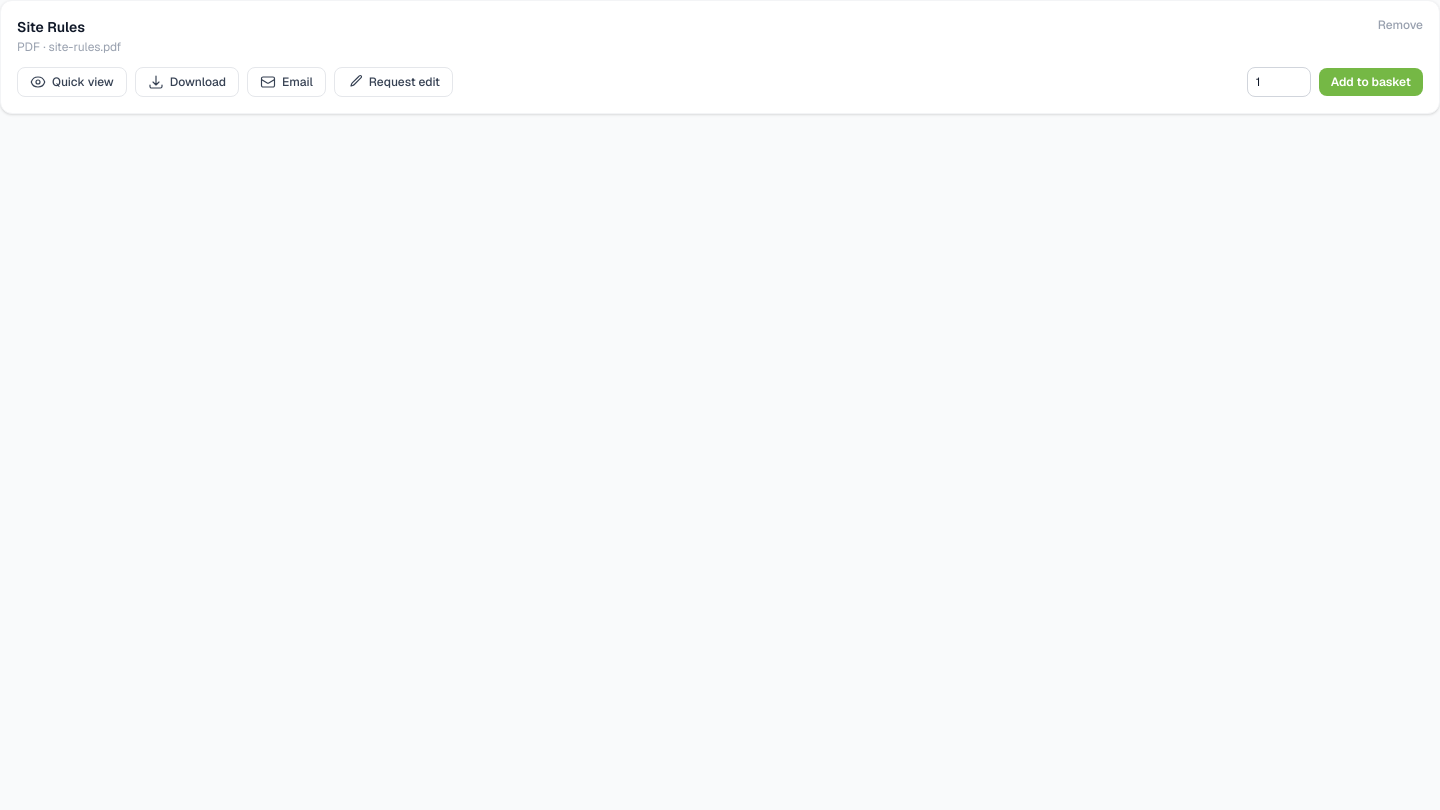
Test: confirming a print order gives unmistakable feedback › shows a success state, empties the basket, and offers a way back
What coordinates should you click on to do the following:
click the button "Add to basket"
I would click on:
 (1371, 82)
Its box is [1319, 68, 1423, 96].
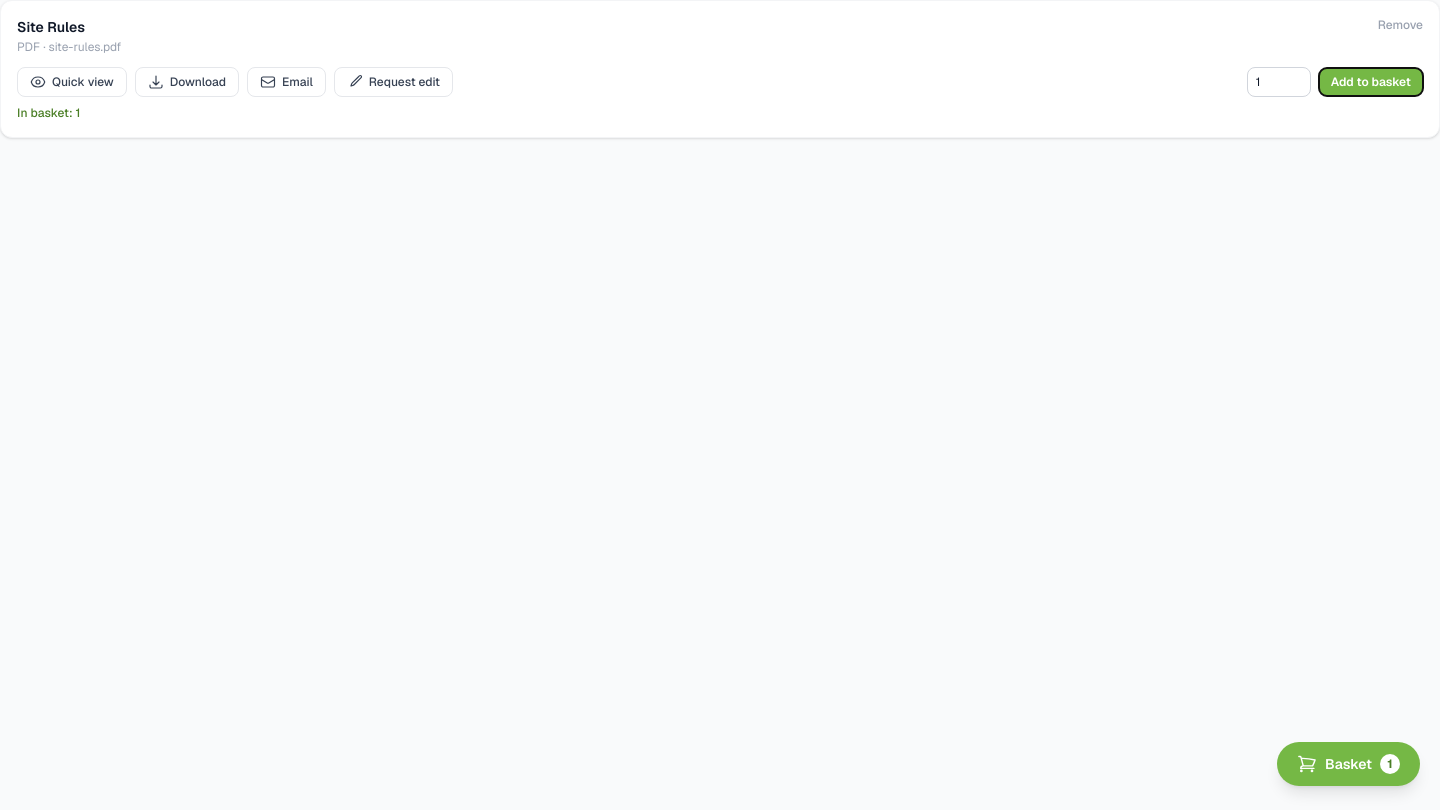
What coordinates should you click on to do the following:
click the button with aria-label "print basket, 1 document"
I would click on:
 (1348, 764)
Its box is [1277, 742, 1420, 786].
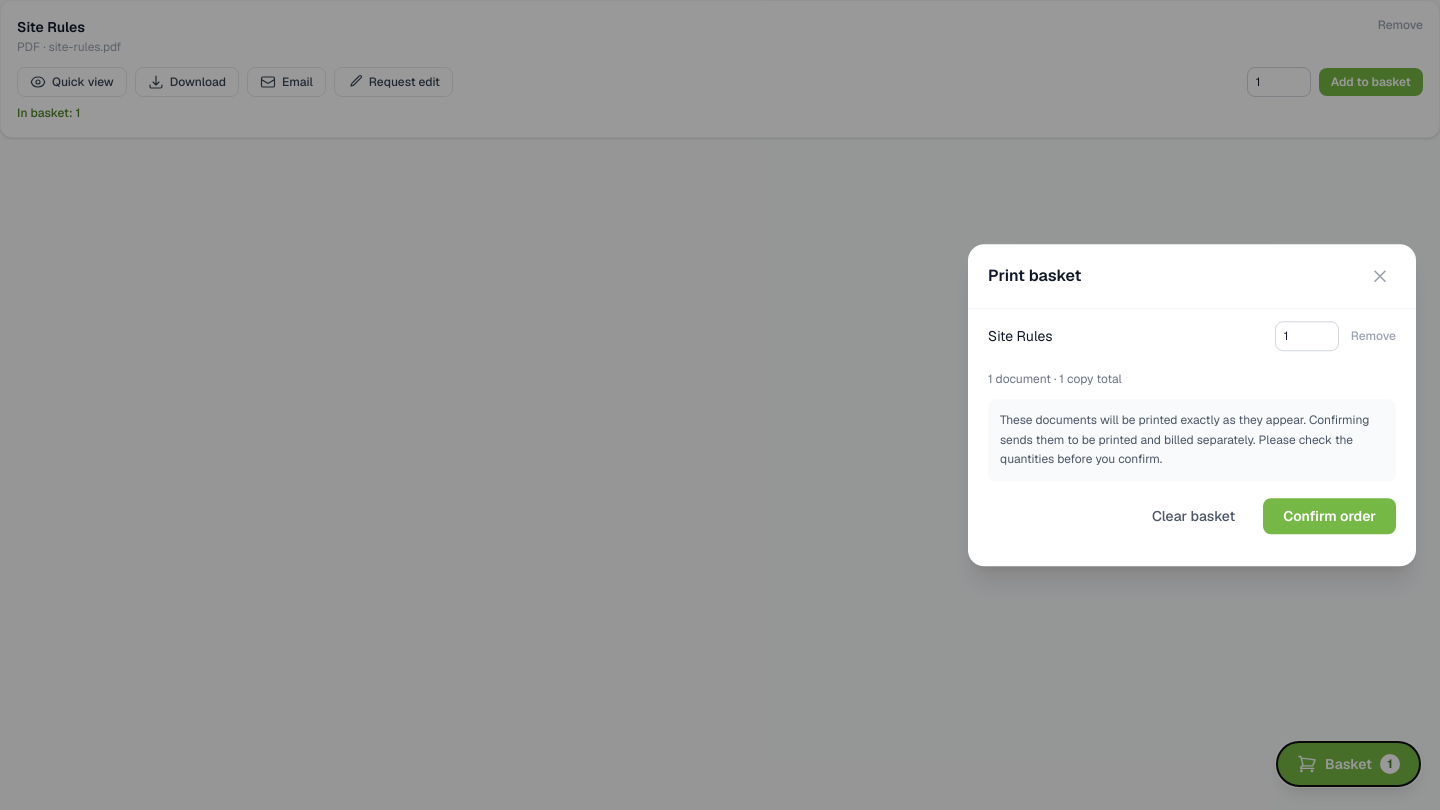
What coordinates should you click on to do the following:
click the button "Confirm order"
I would click on:
 (1330, 516)
Its box is [1263, 498, 1396, 534].
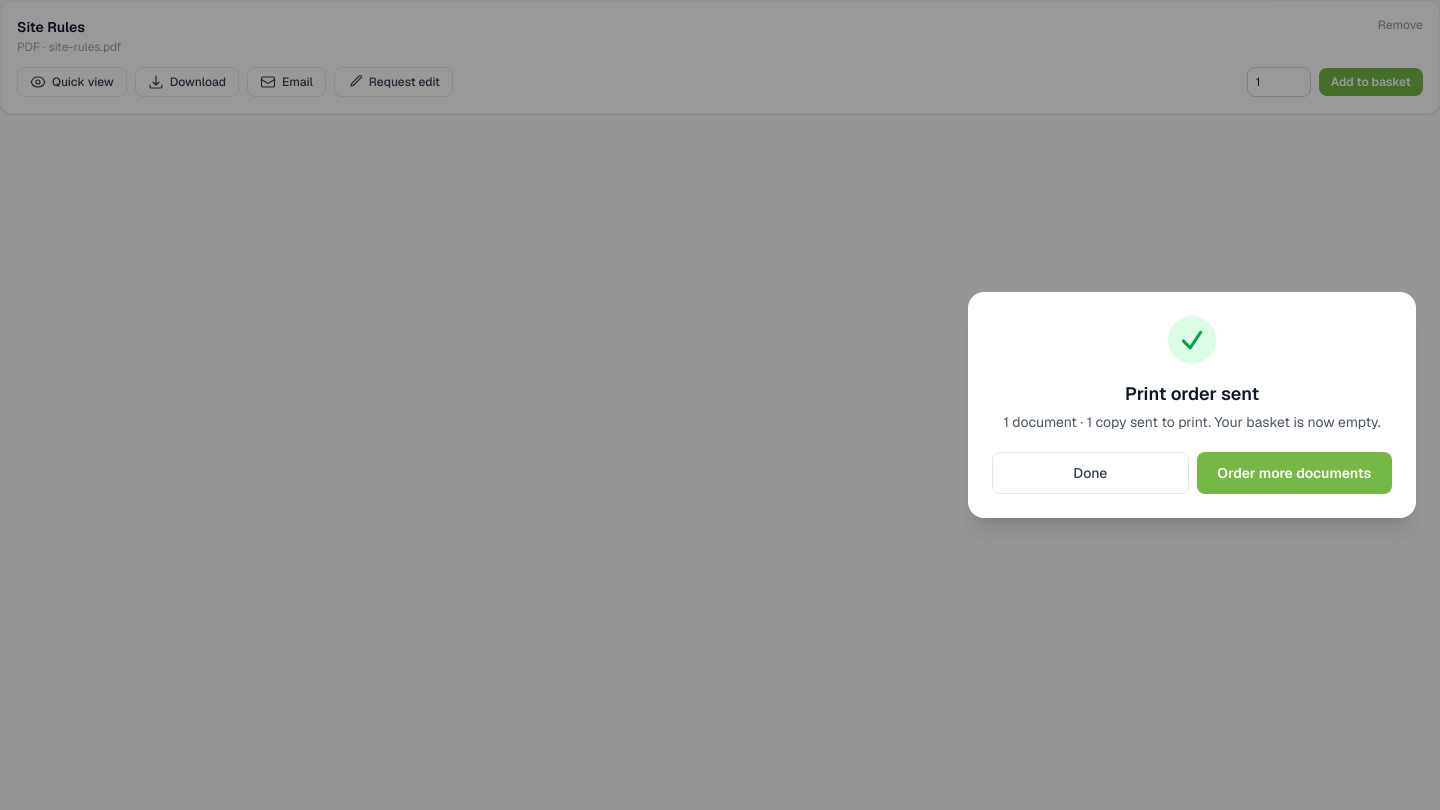
Now the heading "Print order sent" is shown, box [1125, 382, 1259, 405]
Now the dialog "Print order sent" is shown
Now the heading "Print basket" is gone
Note: A route back to the library rather than a dead end.
What coordinates should you click on to do the following:
click the button "Order more documents"
I would click on:
 (1294, 473)
Its box is [1197, 452, 1392, 494].
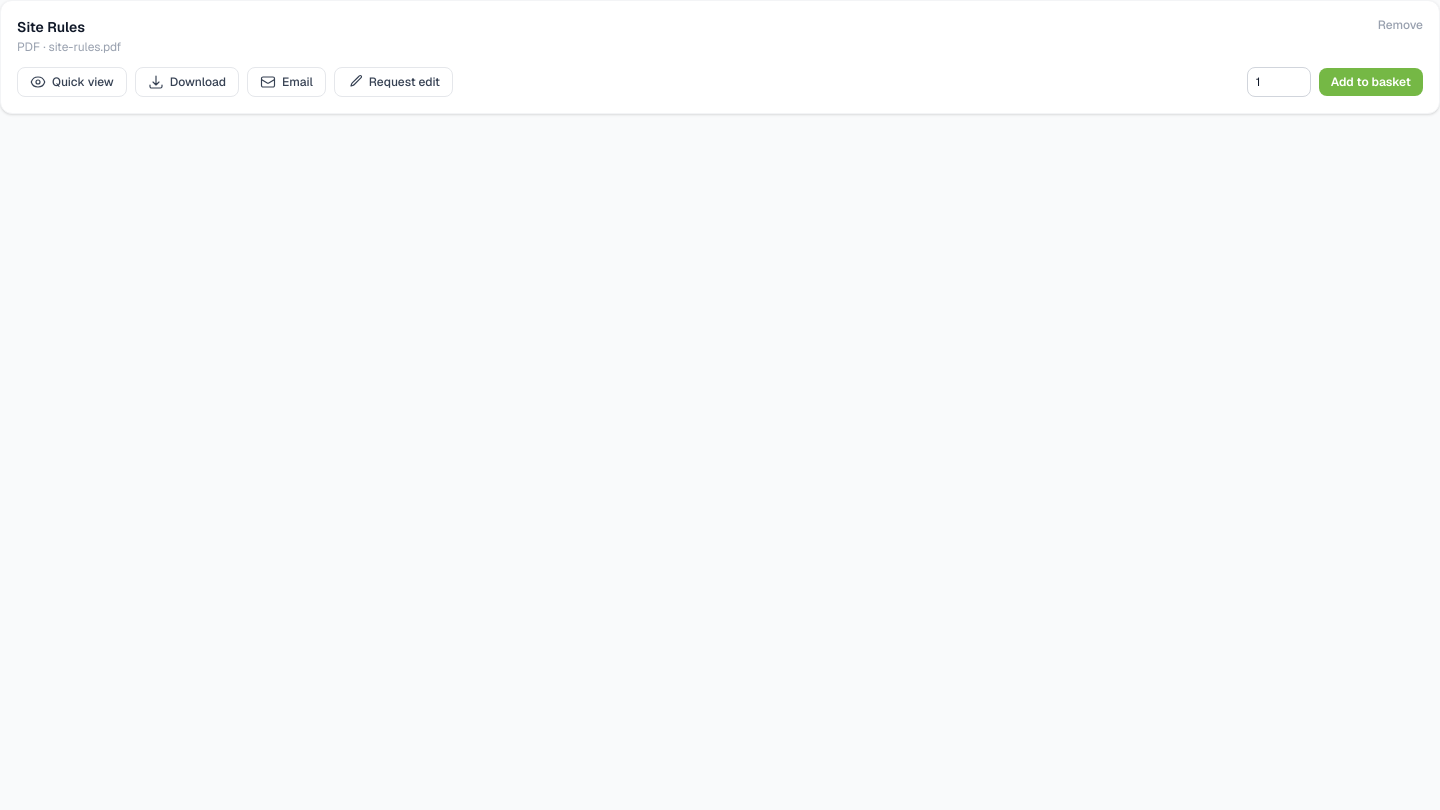
Now the heading "Print order sent" is gone
